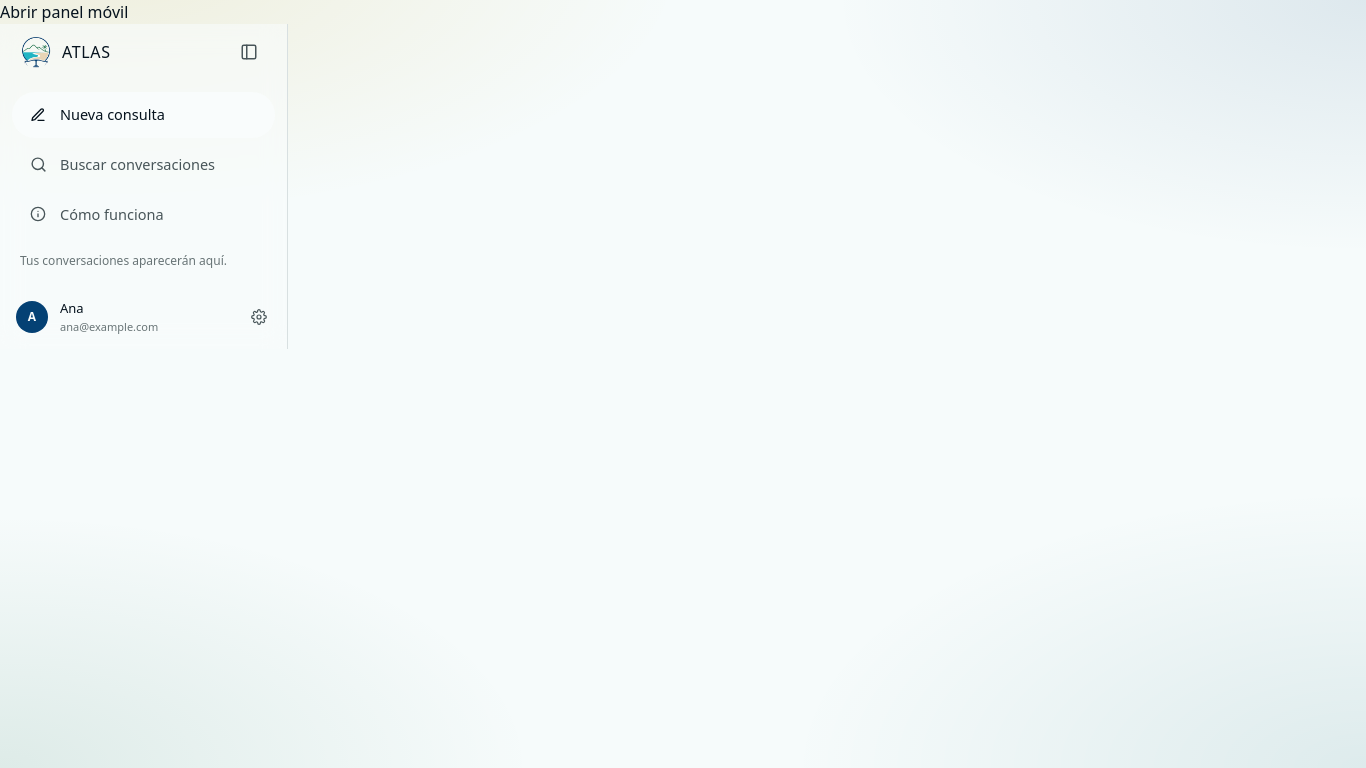
Test: ConversationSidebar — secuencia entre la salida del panel móvil y la apertura de búsqueda › desde escritorio, abrir la búsqueda no cierra ni altera el panel móvil (que ya estaba cerrado)
This screenshot has width=1366, height=768.
Click the button "Buscar conversaciones". click: click(144, 165)
box: [12,142,275,188]
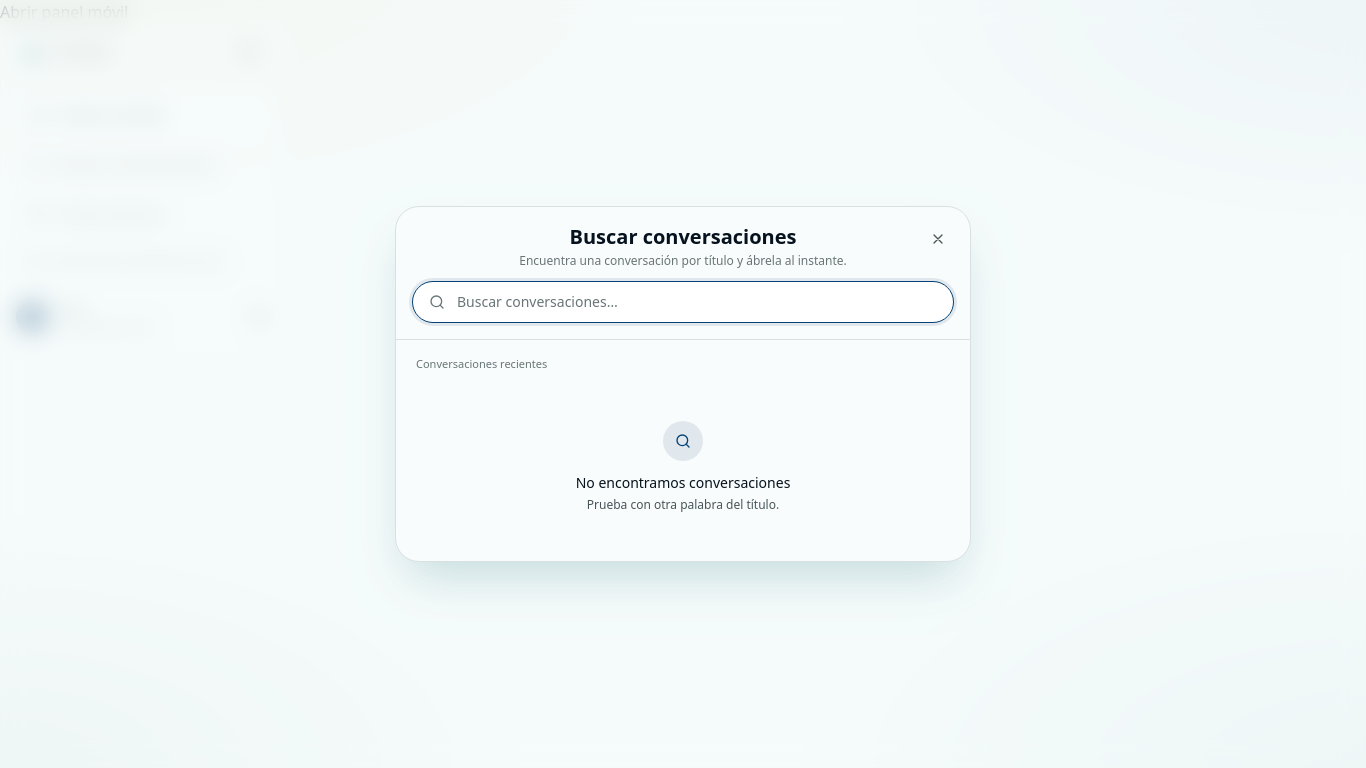
Check: the dialog "Buscar conversaciones" is shown, box [395,206,971,562]
